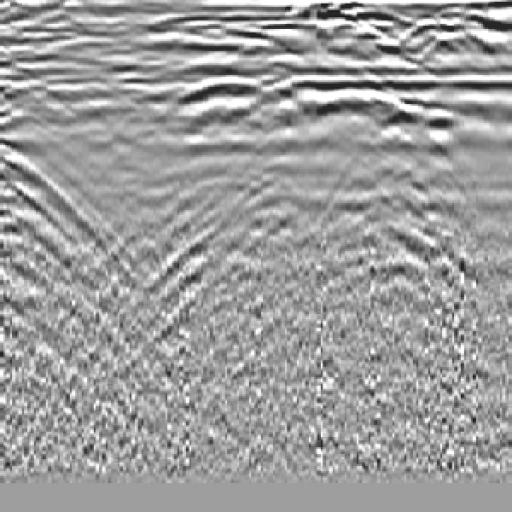metalic: (135, 61, 320, 208)
